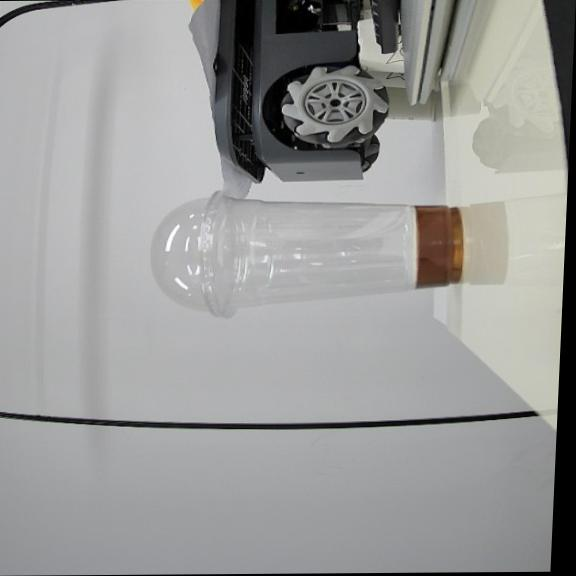Plastik: (151, 192, 462, 317)
